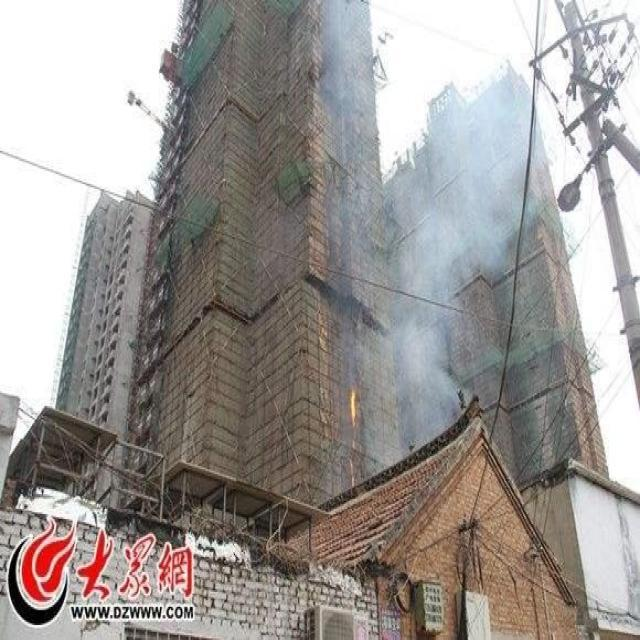Fire: (348, 392, 356, 424)
Smoke: (321, 2, 546, 506)
